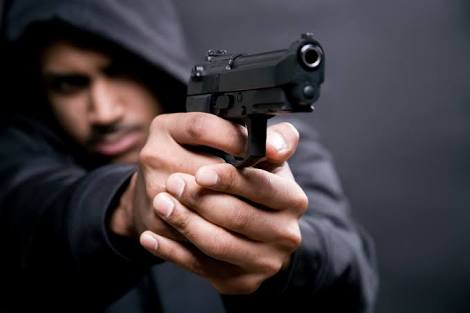gun: (183, 30, 328, 173)
